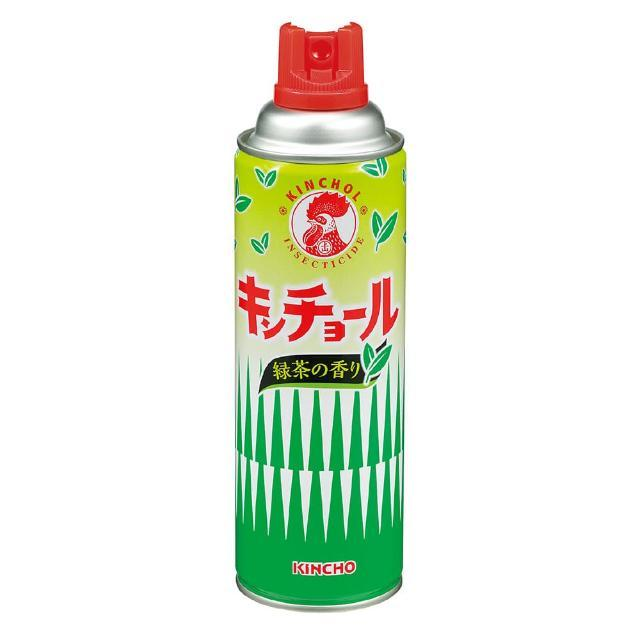chemical_spray_can: (236, 22, 406, 611)
